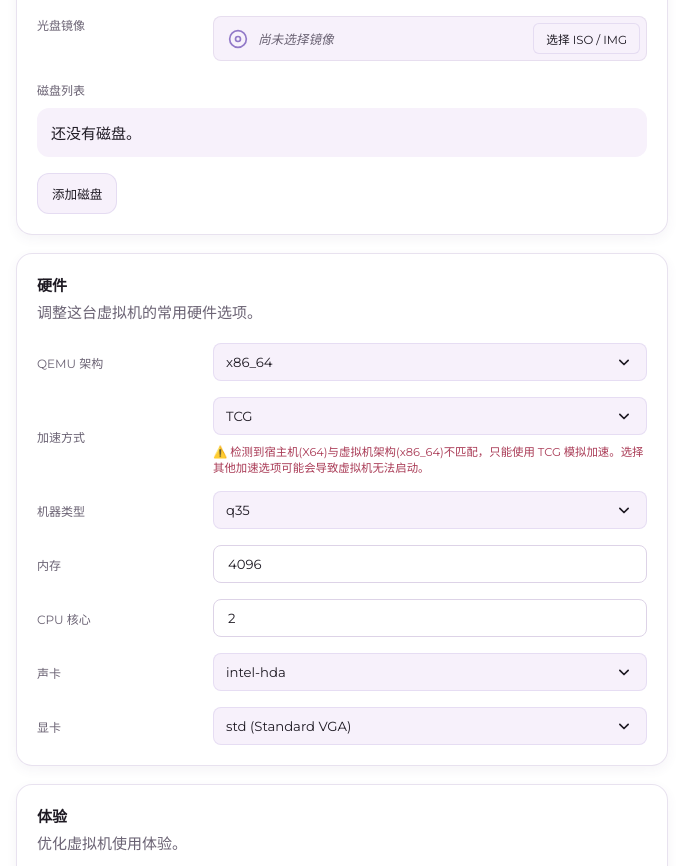
Test: MachineBuilderPage › limits accelerator choices to the host-compatible options
(page scrolled)
Click the button with aria-label "加速方式" at (239, 416), box [213,397,647,435]
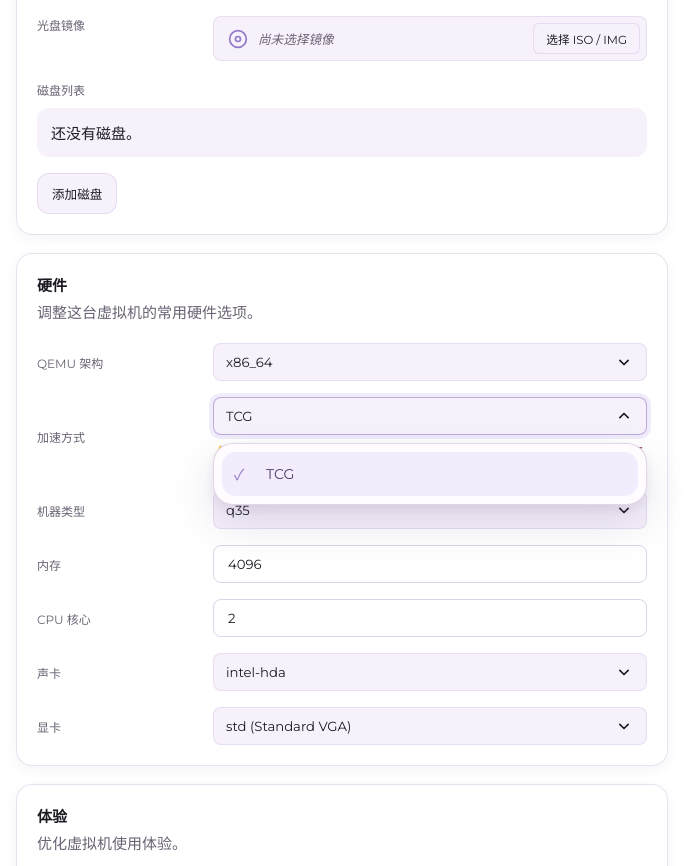
Now the option "✓ TCG" is shown, box [222,452,638,496]
